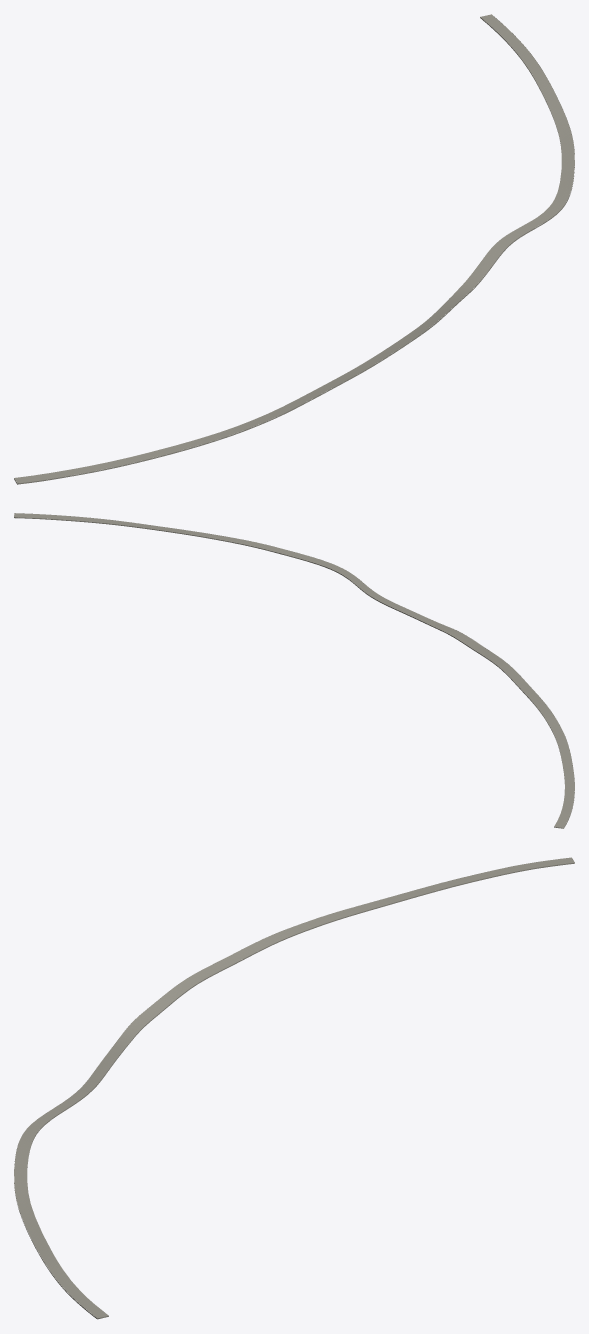
Rendered from sidewalk_02.glb.
The picture shows the model from 3 angles, top to bottom: view 1: azimuth 90°, elevation 25°; view 2: azimuth 150°, elevation 25°; view 3: azimuth 270°, elevation 25°; orthographic projection. The views are drawn at different scales.
Parts seen in each view (by area): view 1: sidewalk_02.surface, sidewalk_02.sides; view 2: sidewalk_02.surface, sidewalk_02.sides; view 3: sidewalk_02.surface, sidewalk_02.sides.
Part boxes in pixels (x1,y1,x2,y2): sidewalk_02.surface: (14, 14, 574, 483); sidewalk_02.sides: (14, 16, 574, 484); sidewalk_02.surface: (14, 513, 574, 827); sidewalk_02.sides: (14, 513, 574, 828); sidewalk_02.surface: (14, 857, 574, 1318); sidewalk_02.sides: (14, 862, 574, 1319).
Size of the model in its own units: 150 by 1.45 by 76.67.
Materials: 1 (1 with a texture image).
